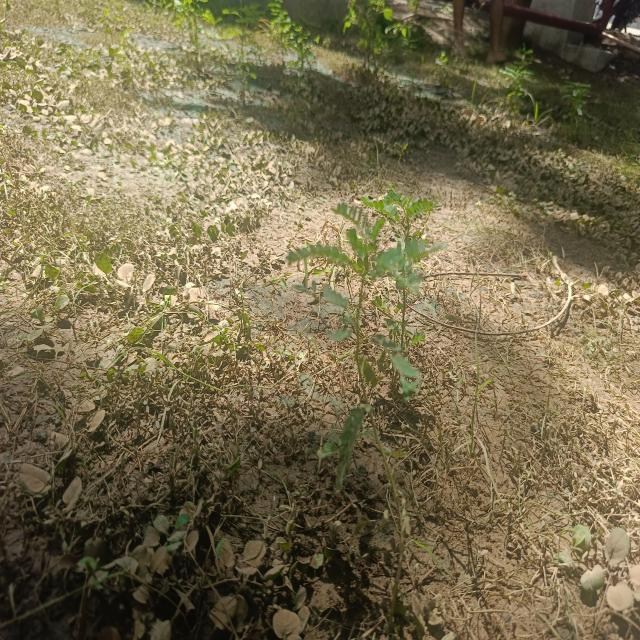weed: (281, 191, 446, 485), (280, 200, 369, 340), (322, 340, 356, 434)
